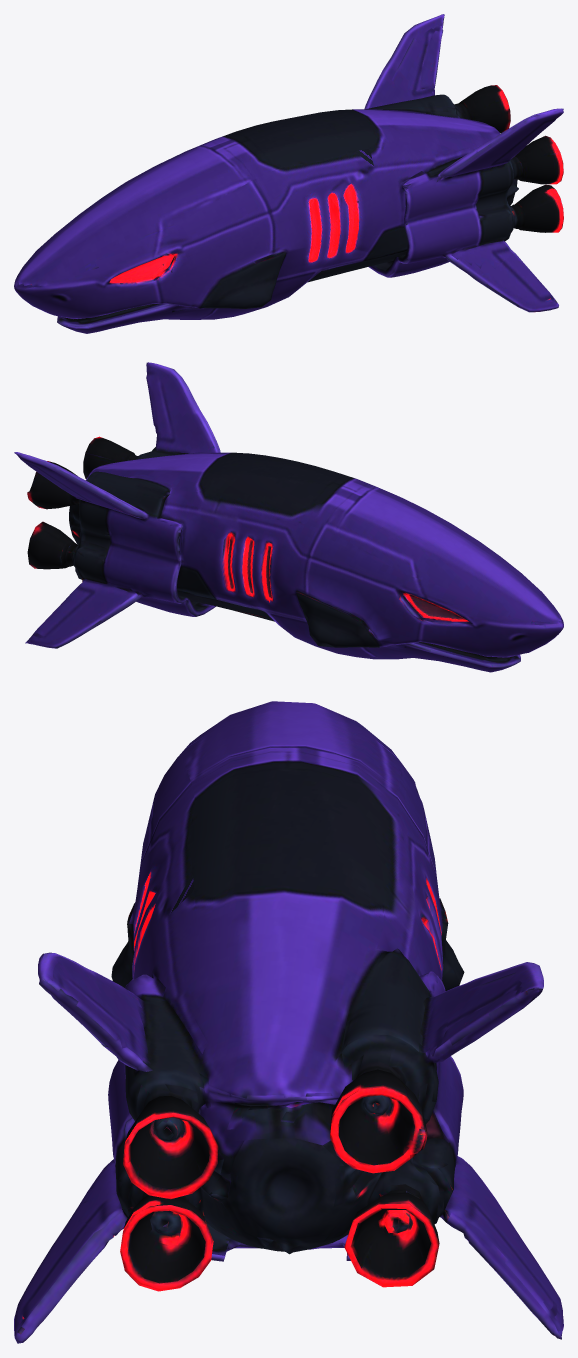
The model's file is boss_dreadnought.glb.
3 renders of one model, top to bottom at view 1: azimuth 30°, elevation 25°; view 2: azimuth 150°, elevation 25°; view 3: azimuth 270°, elevation 25°, orthographic. The views are drawn at different scales.
Visible parts, largest first — view 1: BossDreadnought; view 2: BossDreadnought; view 3: BossDreadnought.
Boxes of the visible parts, x1,y1,x2,y2 form: BossDreadnought: (14,14,563,333); BossDreadnought: (14,362,563,672); BossDreadnought: (14,701,563,1343).
Bounding box in the file's own units: 2 × 0.72 × 0.9506.
Materials: 1 (1 with a texture image).
